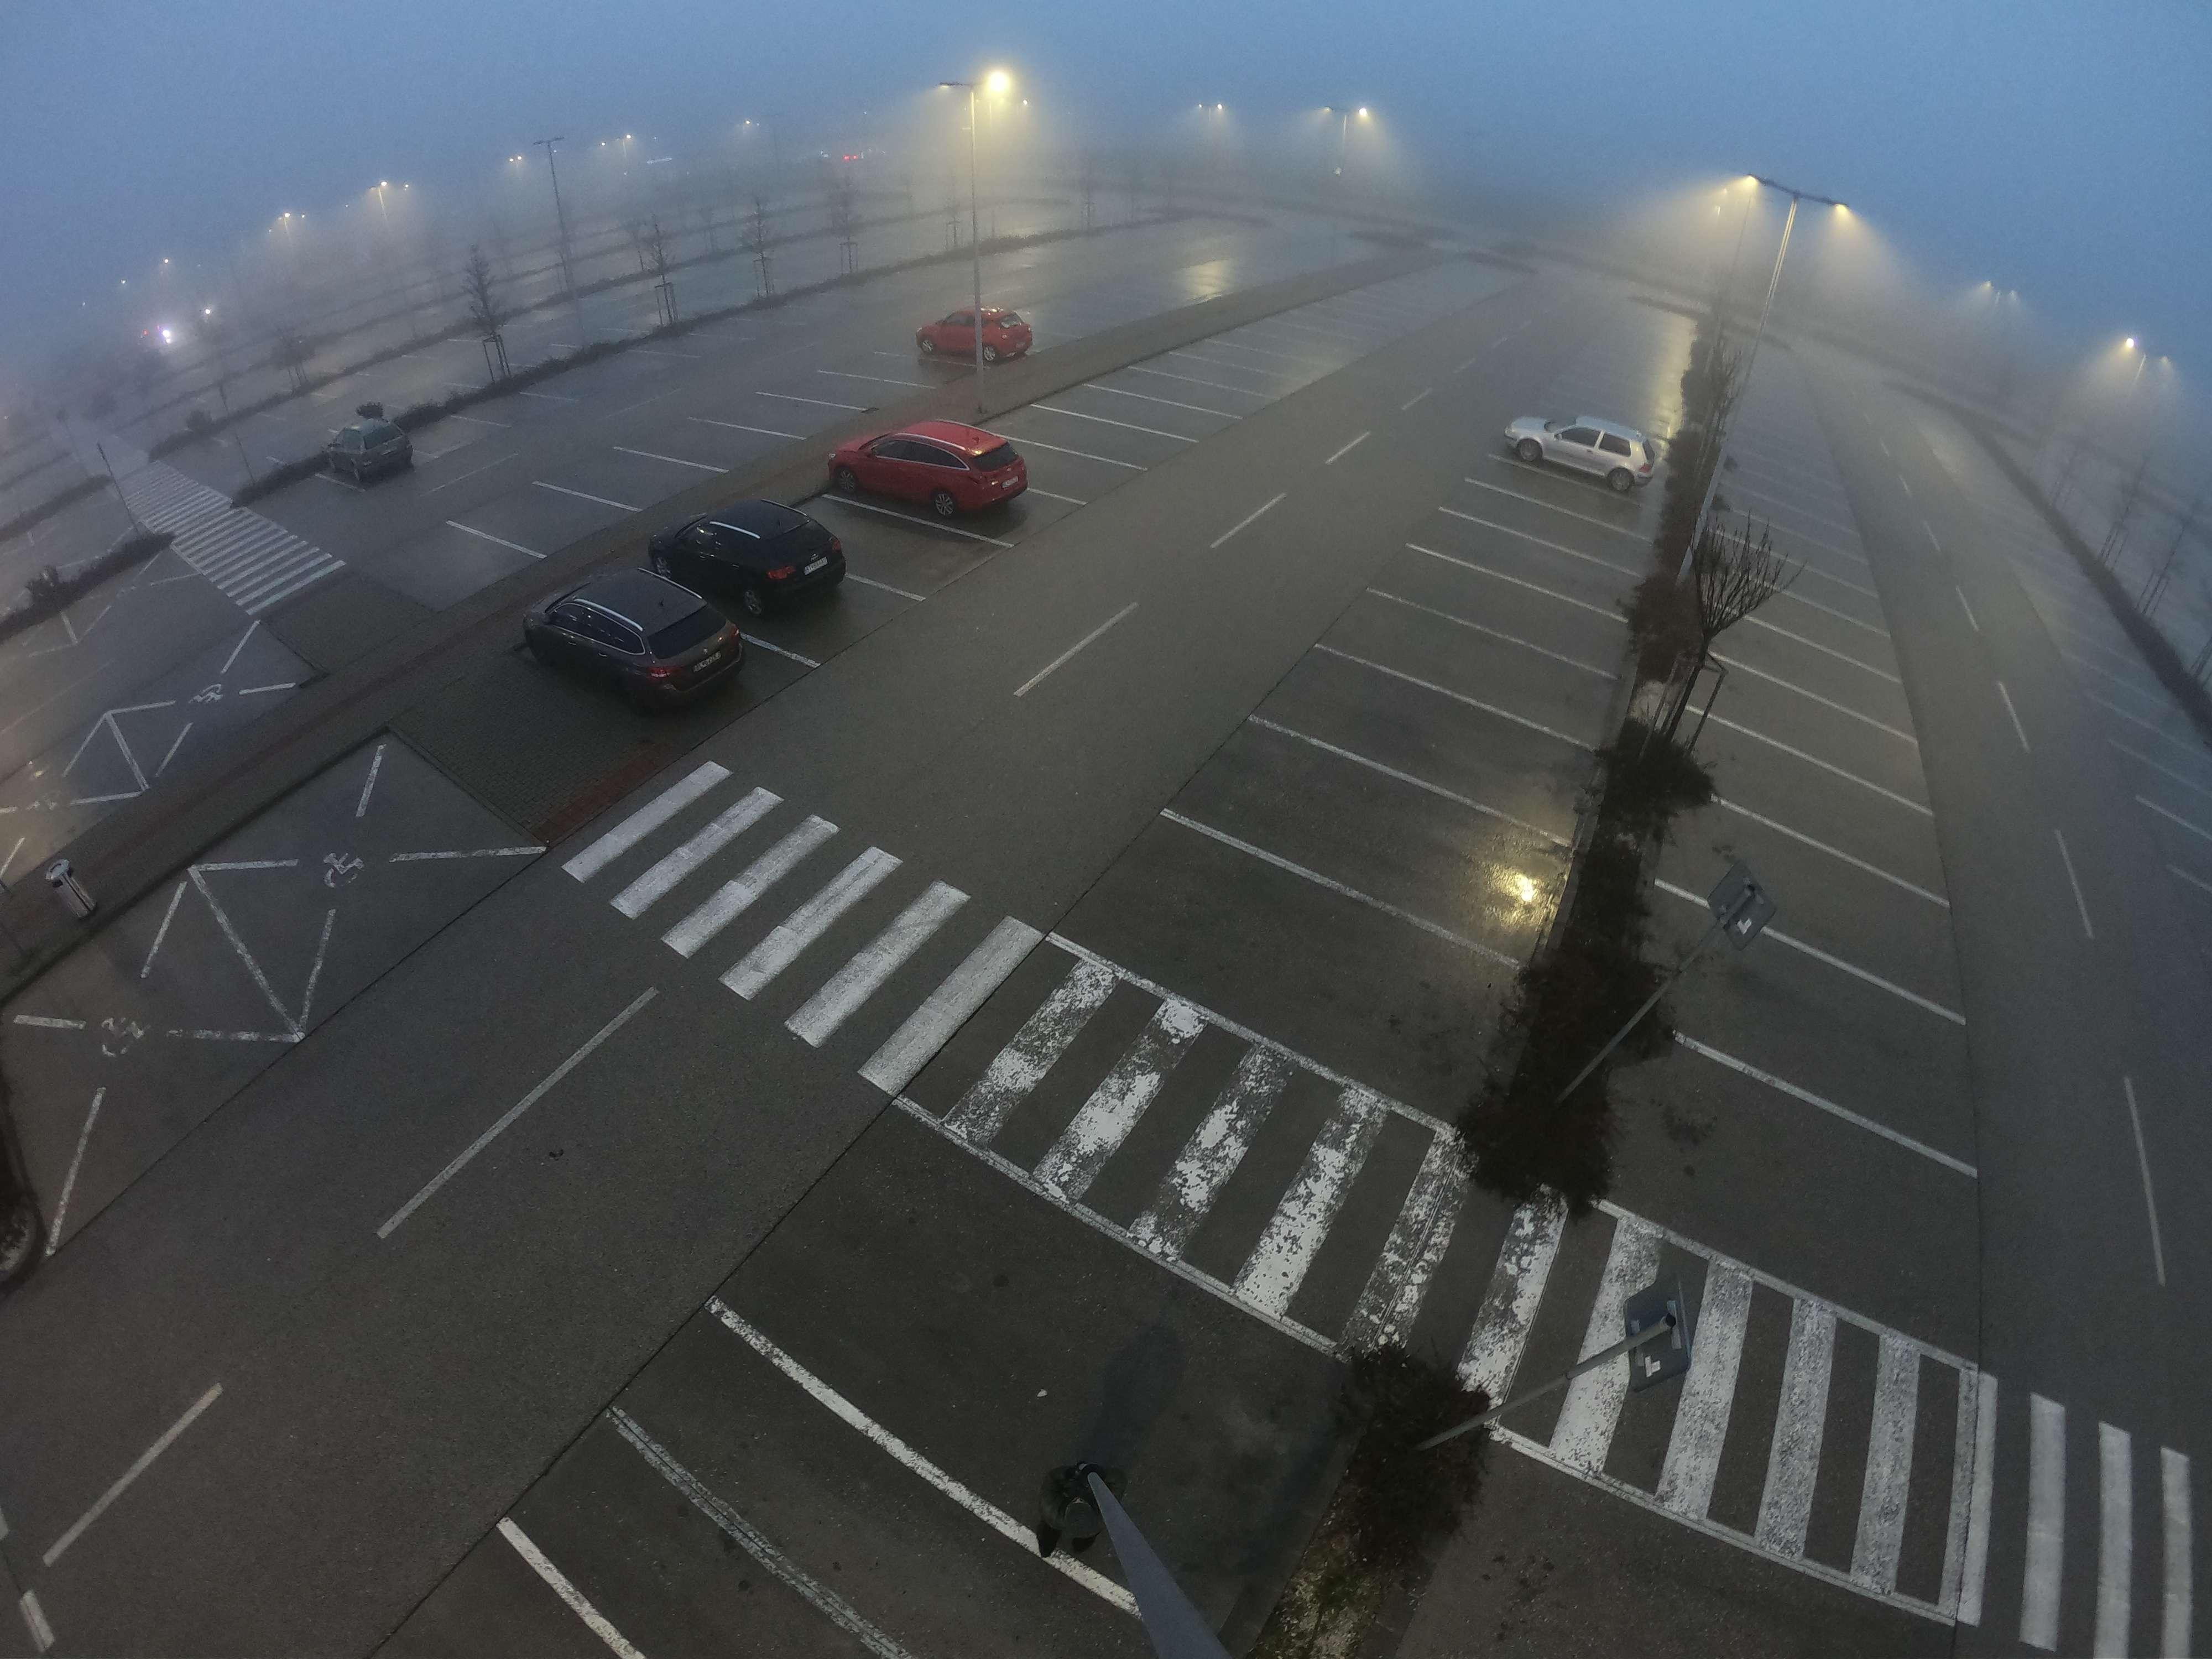empty: (526, 570, 742, 708), (662, 511, 866, 620), (834, 415, 1038, 525), (1507, 410, 1658, 479), (930, 307, 1043, 362)
occupied: (890, 1267, 1111, 1462), (1177, 882, 1353, 1014), (1686, 1112, 1850, 1253), (1737, 943, 1846, 1094), (1298, 781, 1413, 870), (1745, 842, 1841, 929), (1364, 699, 1470, 769), (1757, 755, 1834, 828), (1420, 629, 1501, 687), (1759, 690, 1829, 753), (399, 540, 482, 591), (827, 516, 907, 568), (1764, 626, 1836, 680), (491, 500, 571, 542), (1442, 582, 1517, 626), (1477, 537, 1547, 579), (815, 376, 881, 420), (578, 464, 653, 498), (671, 425, 738, 462), (1524, 474, 1587, 509), (1785, 599, 1836, 640), (751, 399, 815, 430), (1026, 451, 1080, 484), (1510, 505, 1562, 537), (1069, 423, 1120, 455)
